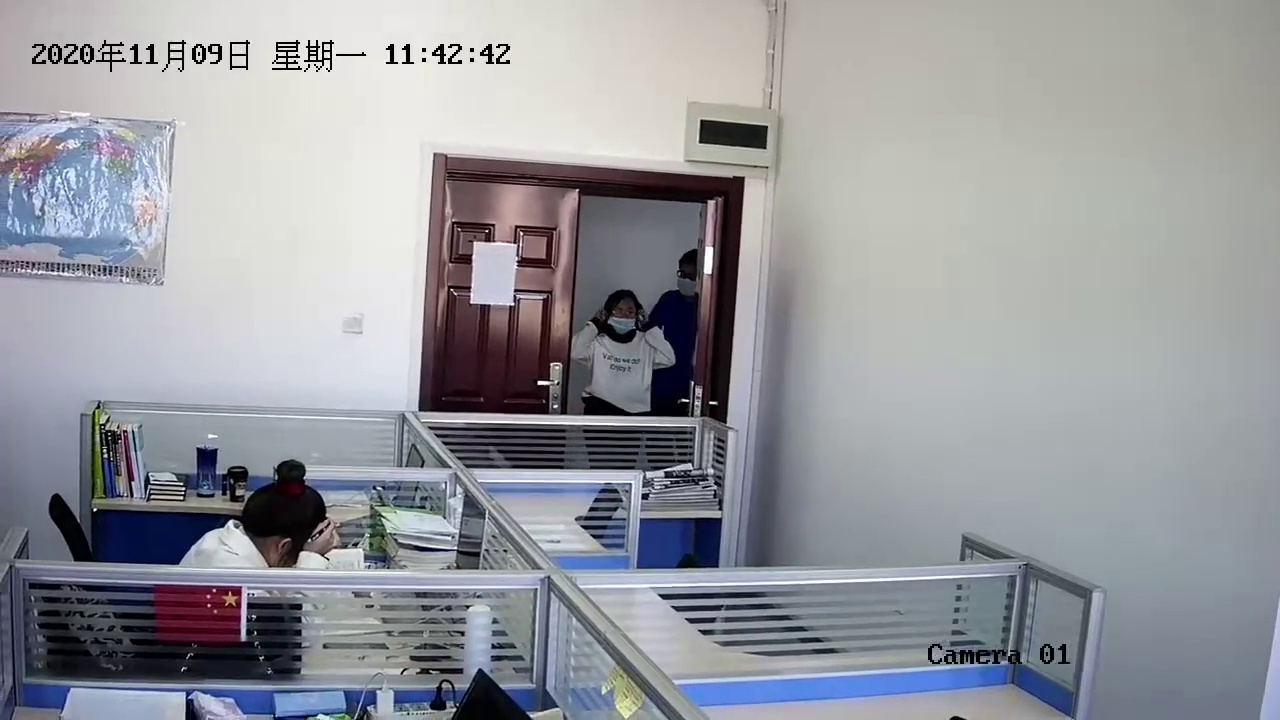mask: (599, 295, 647, 339), (671, 247, 707, 302)
